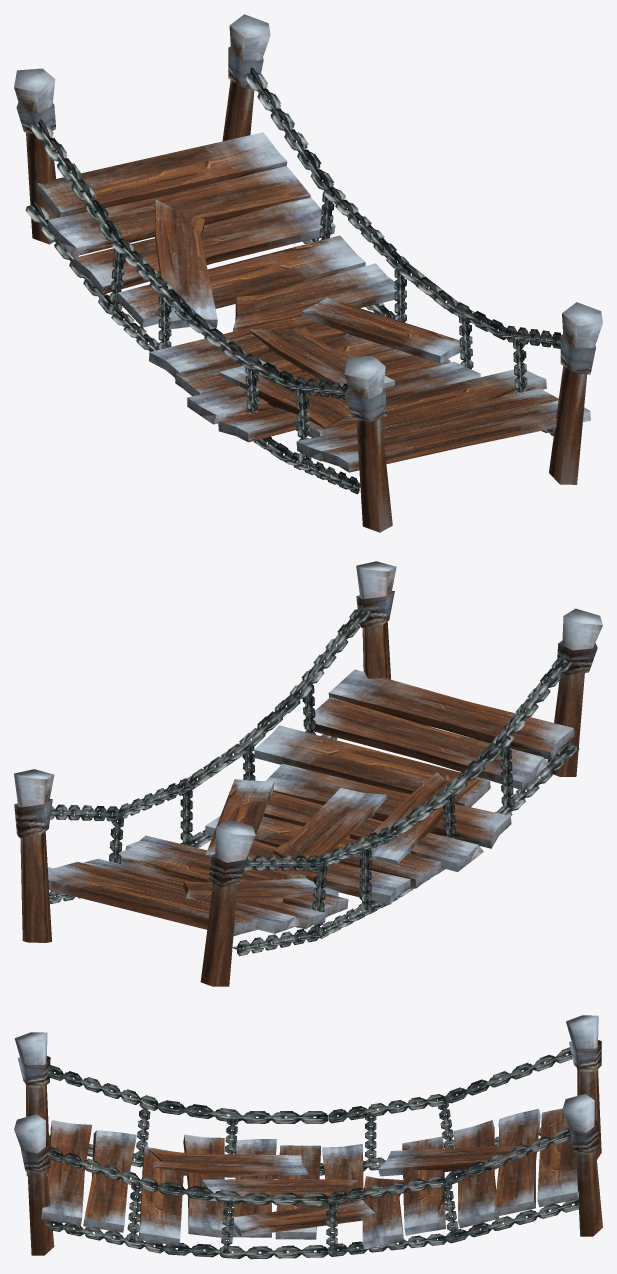
File: Ice_bridge.FBX
3 views of the same model, one above another, from view 1: azimuth 30°, elevation 25°; view 2: azimuth 150°, elevation 25°; view 3: azimuth 270°, elevation 25° (orthographic). The views are drawn at different scales.
Visible parts, largest first — view 1: Group006; view 2: Group006; view 3: Group006.
Boxes of the visible parts, <box> form: Group006: <box>14,14,602,532</box>; Group006: <box>14,561,602,986</box>; Group006: <box>14,1015,602,1259</box>.
Size of the model in its own units: 451 by 322 by 1051.
